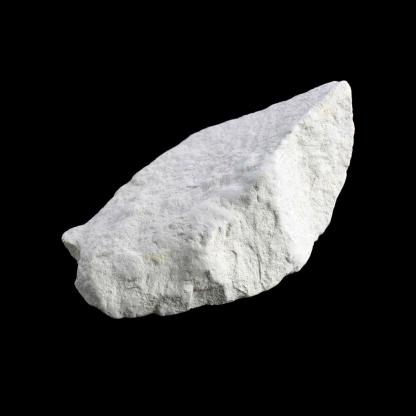Sedimentary_Chalk: (55, 67, 356, 316)
